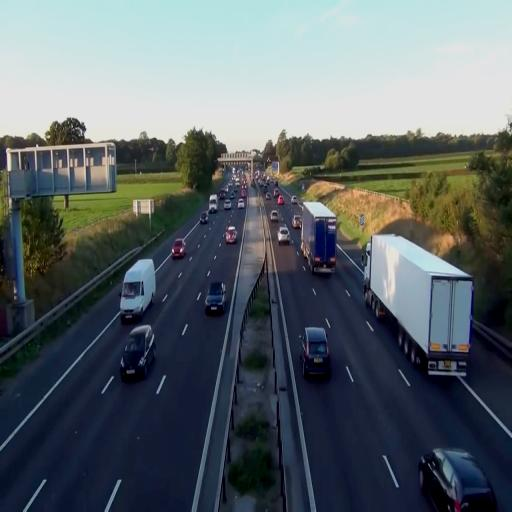vehicle: (363, 232, 474, 376), (419, 446, 498, 512), (300, 200, 338, 276), (120, 258, 156, 322), (120, 324, 156, 380), (301, 326, 331, 378), (204, 281, 226, 314), (172, 240, 186, 260), (224, 224, 238, 244), (277, 226, 290, 243)
